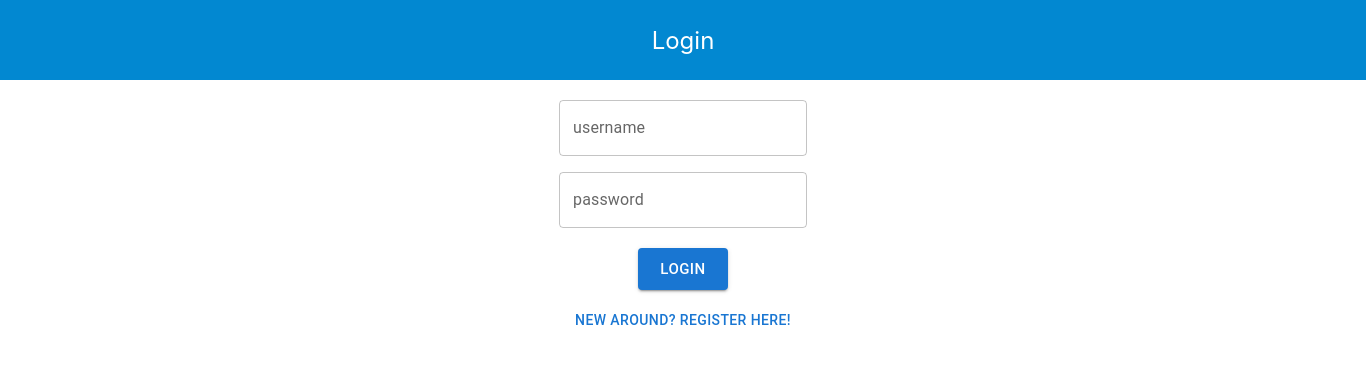
Test: Login Page › should handle unsuccessful login click when incorrect password is provided
This screenshot has width=1366, height=365.
Click the button "Login" at [683, 269], box [638, 248, 728, 290]
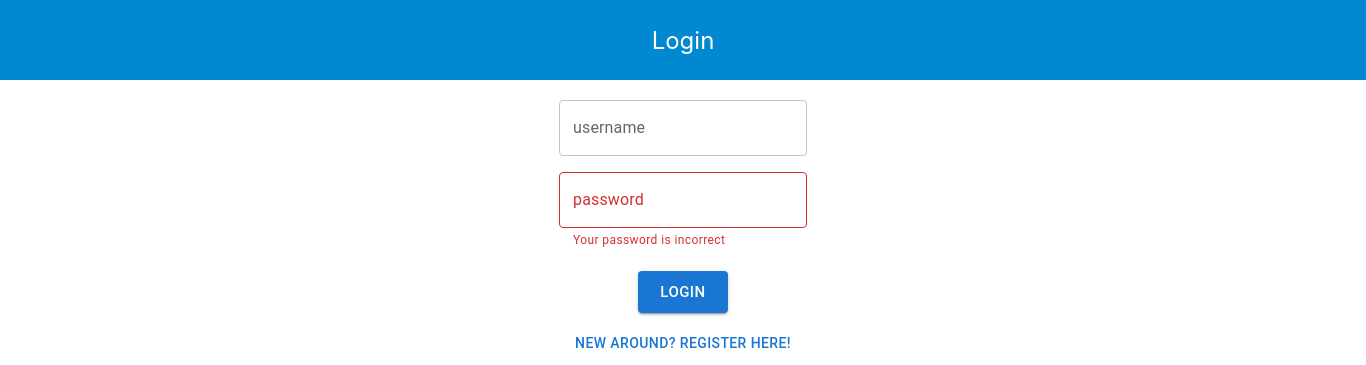
Expected: the text "Your password is incorrect" is shown, [573, 233, 725, 247]
